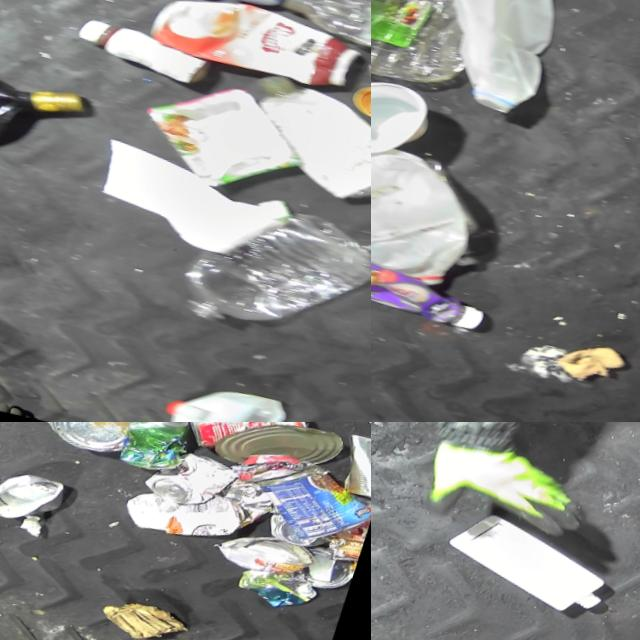can: (246, 450, 371, 560), (216, 422, 352, 492), (176, 422, 321, 478), (144, 443, 248, 520), (218, 526, 326, 590), (0, 463, 72, 532), (120, 422, 202, 480), (39, 422, 140, 464), (301, 546, 367, 602), (268, 514, 338, 557), (331, 495, 371, 570), (336, 435, 371, 507)
milk_jug: (433, 502, 627, 627), (371, 126, 496, 303), (411, 0, 582, 127), (155, 369, 307, 422)
plastic_bottle: (171, 183, 371, 364), (371, 0, 486, 105), (273, 0, 371, 82)
